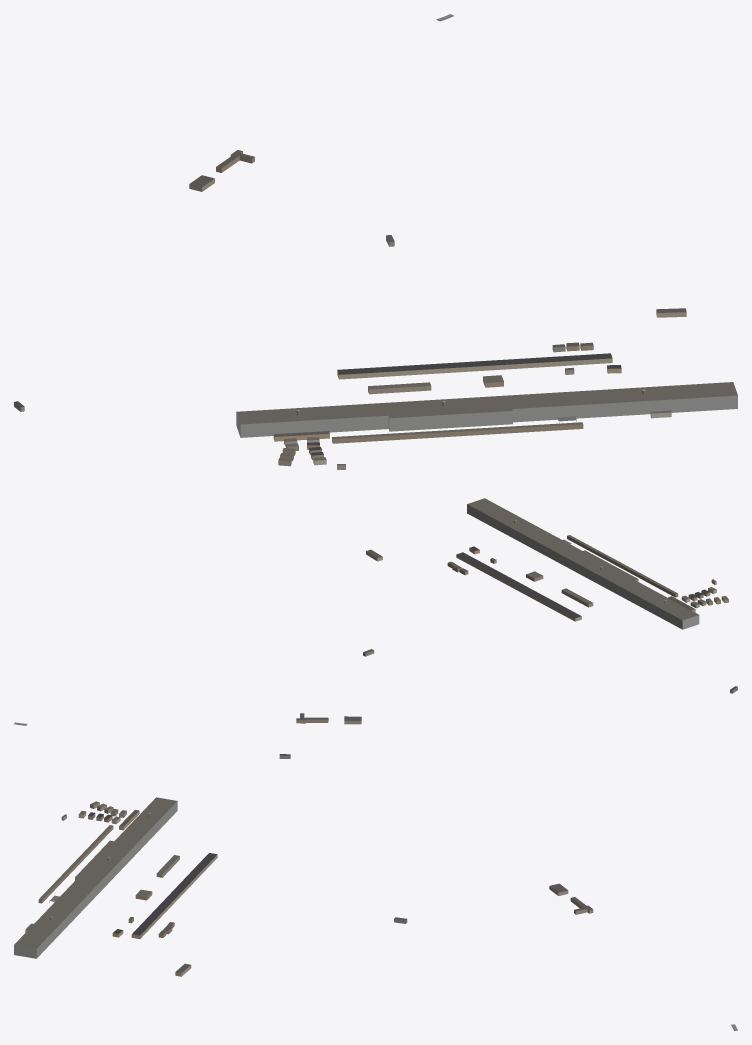
File: scenery.glb
3 renders of one model, top to bottom at view 1: azimuth 30°, elevation 25°; view 2: azimuth 150°, elevation 25°; view 3: azimuth 270°, elevation 25°, orthographic. The views are drawn at different scales.
Visible parts, largest first — view 1: chunk_14_16, chunk_14_15, chunk_15_15; view 2: chunk_14_16, chunk_14_15; view 3: chunk_14_16, chunk_14_15.
Part boxes in pixels (x1,y1,x2,y2): chunk_14_16: (236, 382, 737, 469); chunk_14_15: (273, 353, 612, 442); chunk_15_15: (552, 308, 686, 374); chunk_14_16: (467, 498, 716, 629); chunk_14_15: (456, 552, 695, 621); chunk_14_16: (14, 797, 177, 958); chunk_14_15: (111, 810, 217, 938).
Bounding box in the file's own units: 1237 × 38.15 × 1404.
